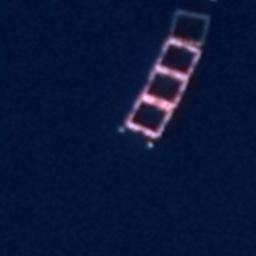square_solid: (122, 94, 175, 142), (141, 64, 191, 107), (155, 38, 202, 78), (167, 8, 211, 50)
